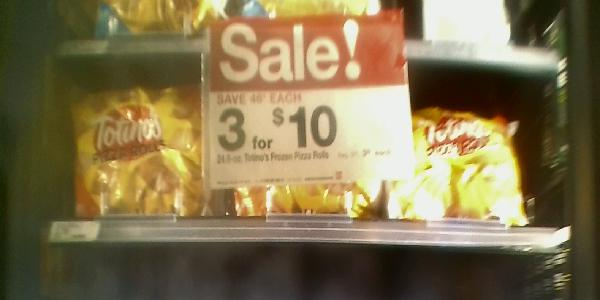icecream: (203, 54, 386, 225), (385, 62, 540, 234), (64, 74, 208, 221)
